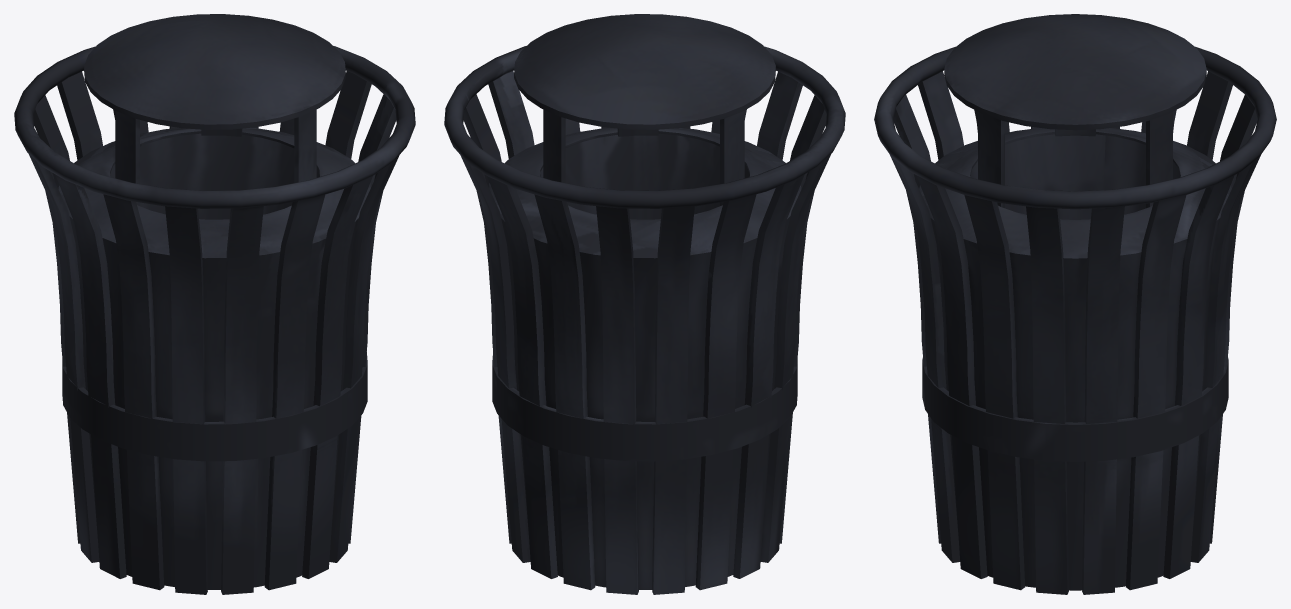
File: Trashcan.fbx
The picture shows the model from 3 angles, left to right: view 1: azimuth 30°, elevation 25°; view 2: azimuth 150°, elevation 25°; view 3: azimuth 270°, elevation 25°; orthographic projection.
Visible parts, largest first — view 1: Cylinder; view 2: Cylinder; view 3: Cylinder.
Boxes of the visible parts, box(x1,y1,x2,y2) form: Cylinder: box(14, 14, 415, 594); Cylinder: box(444, 14, 845, 594); Cylinder: box(874, 14, 1276, 594).
Bounding box in the file's own units: 2.59 × 2.59 × 3.55.
